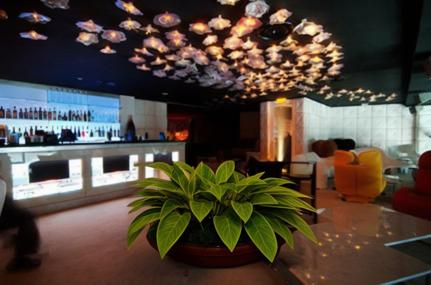chair: (334, 149, 388, 203)
pottedplant: (126, 161, 316, 268)
sofa: (294, 151, 336, 190)
